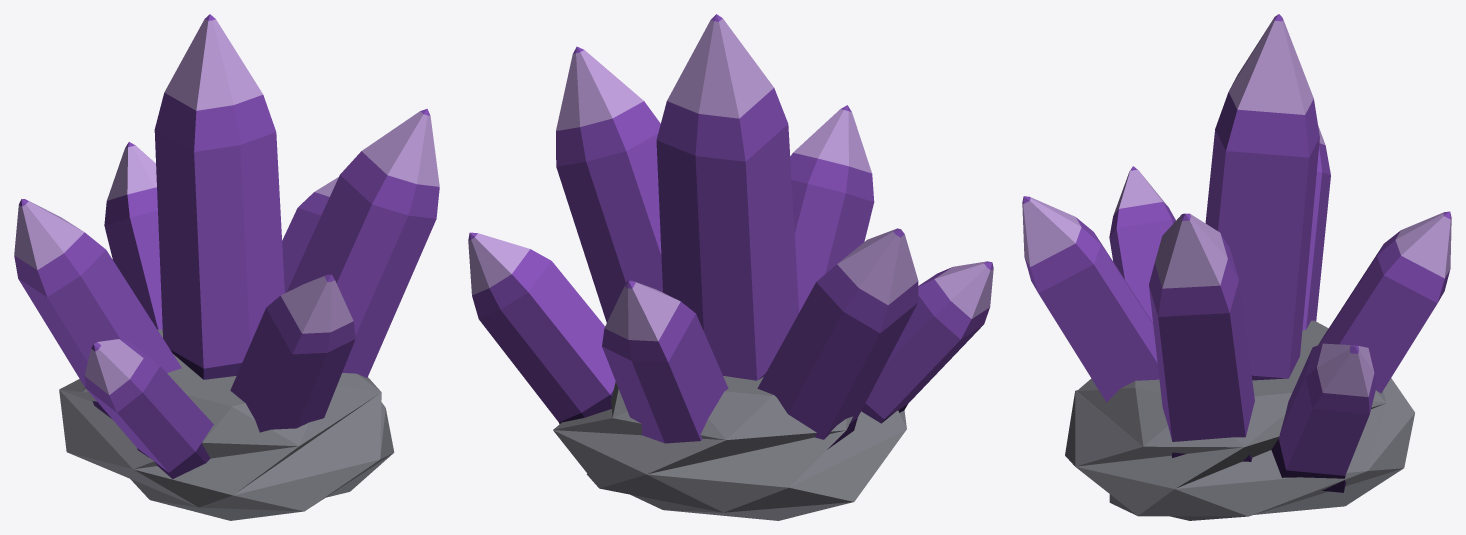
Rendered from crystal_cluster.gltf.
3 renders of one model, left to right at view 1: azimuth 30°, elevation 25°; view 2: azimuth 150°, elevation 25°; view 3: azimuth 270°, elevation 25°, orthographic. The views are drawn at different scales.
Parts seen in each view (by area): view 1: crystal_cluster; view 2: crystal_cluster; view 3: crystal_cluster.
Boxes of the visible parts, x1,y1,x2,y2 form: crystal_cluster: [14, 14, 439, 520]; crystal_cluster: [468, 14, 993, 520]; crystal_cluster: [1022, 14, 1451, 520].
Bounding box in the file's own units: 0.3203 × 0.351 × 0.2983.
